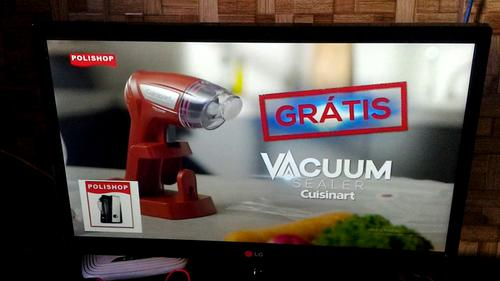Polishop #1: (78, 178, 143, 233)
